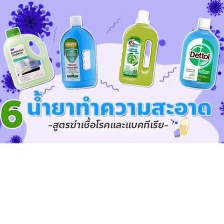cleaning_solution: (116, 7, 161, 90), (1, 24, 55, 93), (175, 16, 223, 92), (55, 14, 101, 91)
